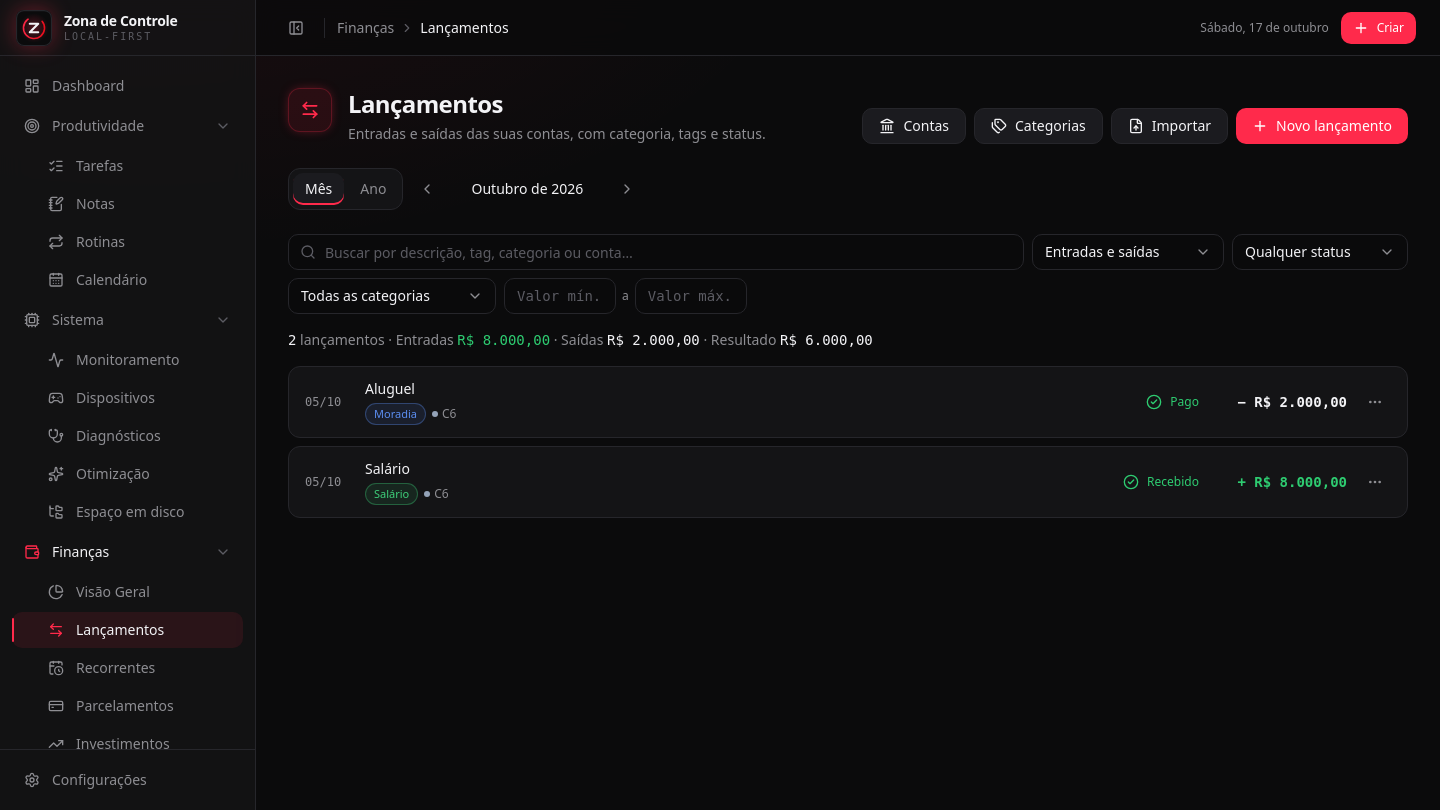
Test case: página de Lançamentos › mostra o período, os totais e filtra
Check: the text "Resultado" shows "R$ 6.000,00", box [780, 332, 873, 348]
Type "aluguel" into the field named "Buscar lançamentos" at (656,252), box [288, 234, 1024, 270]
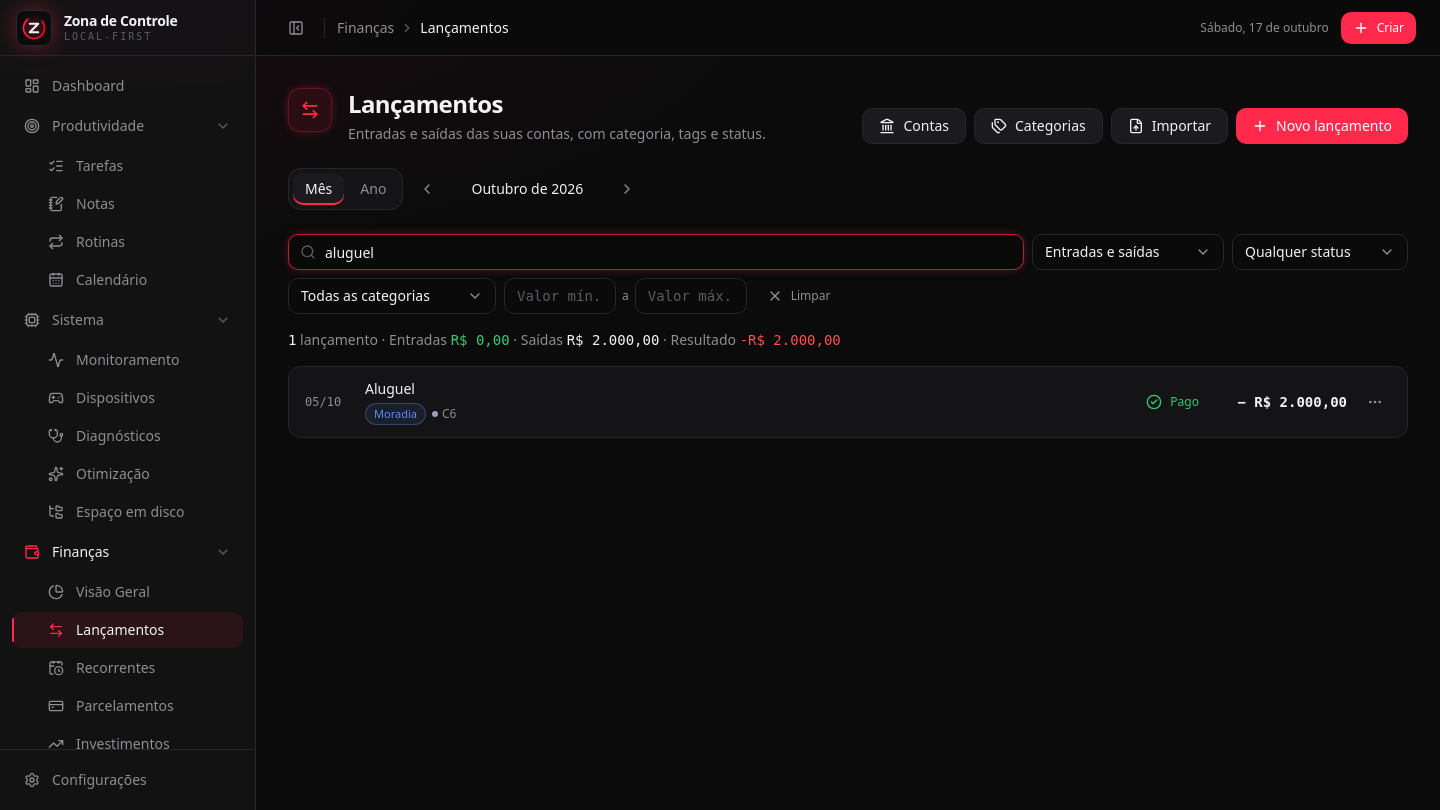
Check: the button "Aluguel" is shown, box [365, 379, 1126, 399]
# Mês anterior: só o lançamento dele.
Clear the field named "Buscar lançamentos" at (656,252), box [288, 234, 1024, 270]
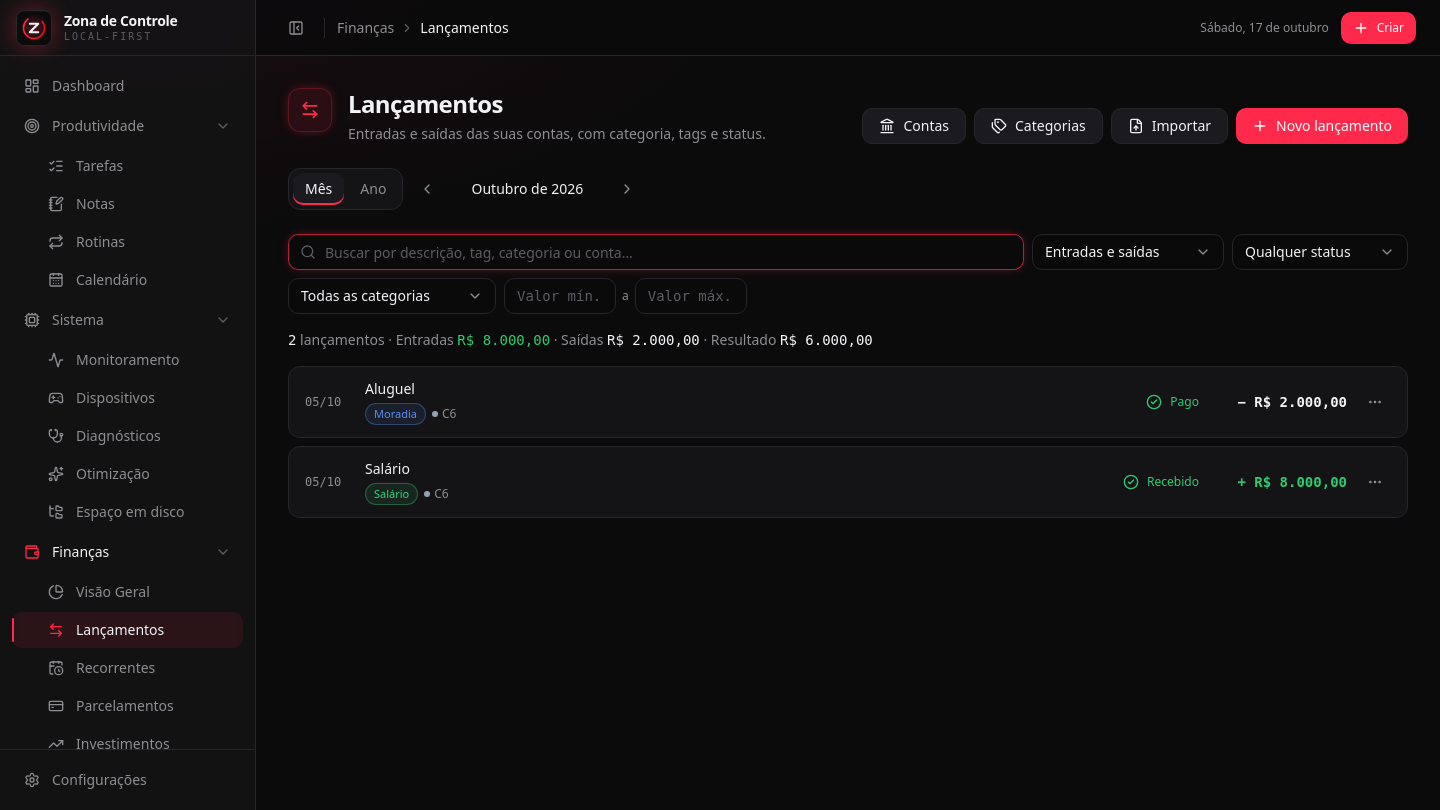
Click the button named "Mês anterior" at (427,189), box [411, 173, 443, 205]
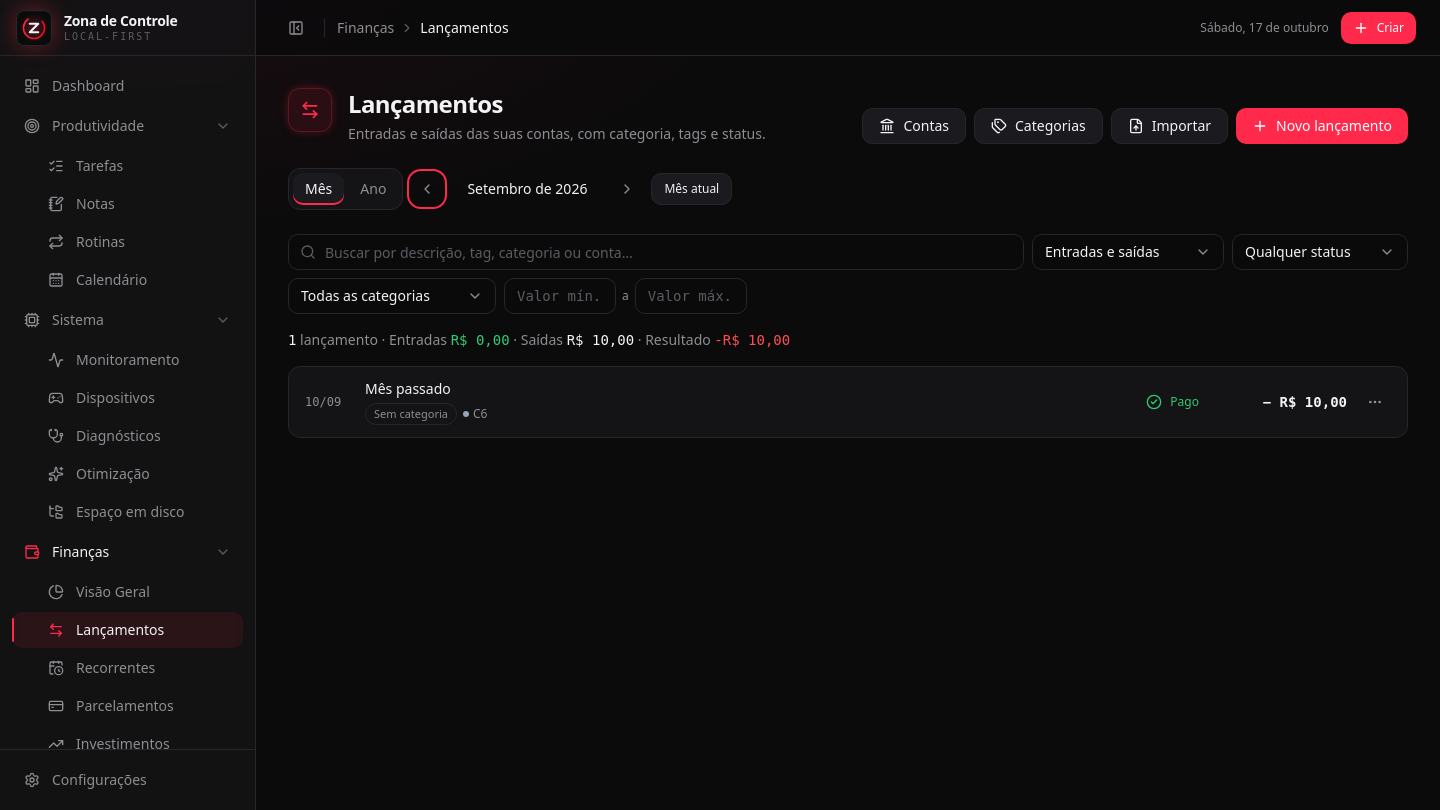
Check: the button "Mês passado" is shown, box [365, 379, 1126, 399]
Check: the button "Aluguel" is gone
Check: the button "Mês atual" is shown, box [651, 173, 732, 205]
